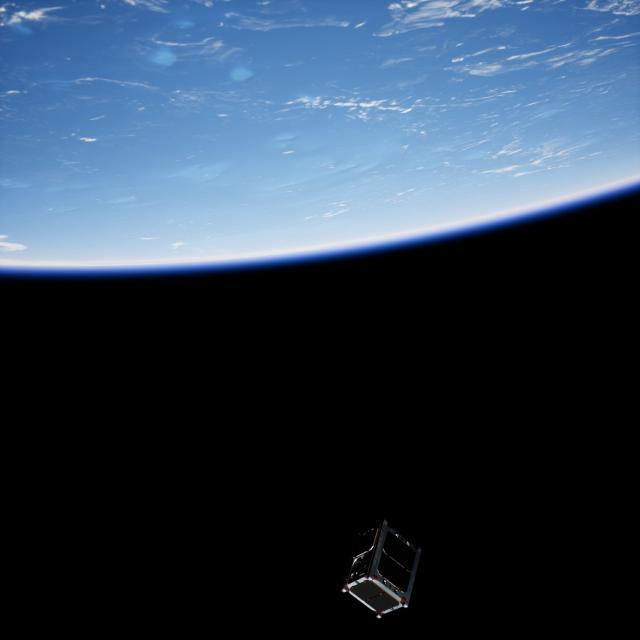satellite: (341, 518, 428, 624)
